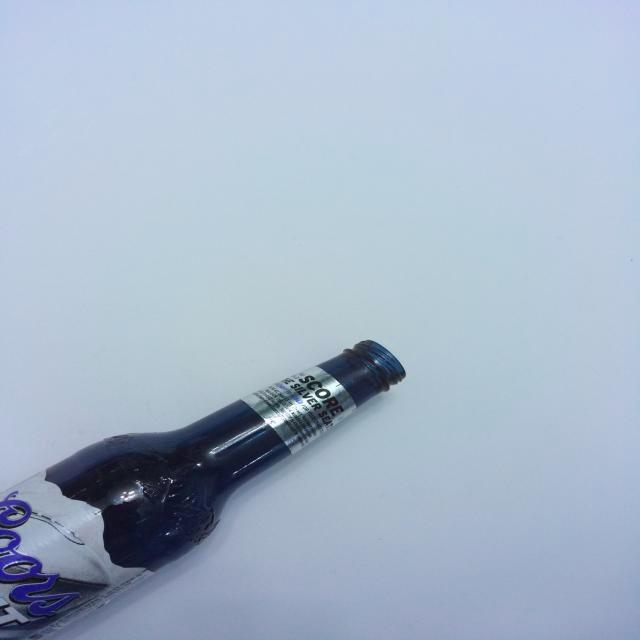glass: (0, 331, 414, 640)
